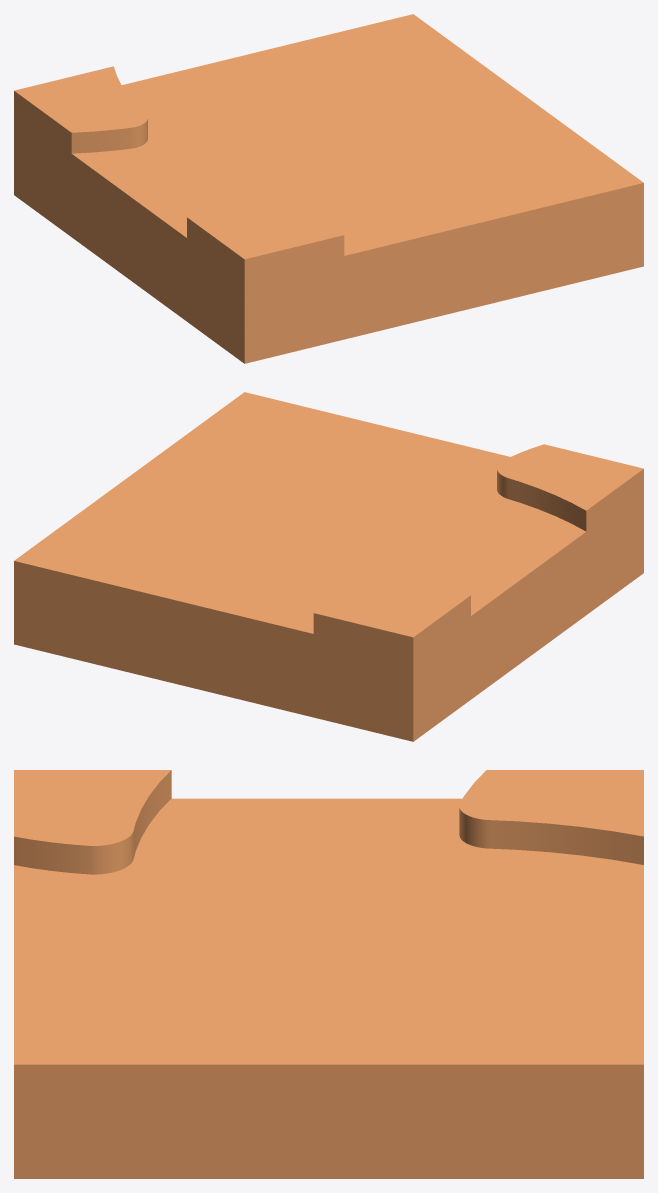
File: ground_dirtRiverEntrance.fbx
3 renders of one model, top to bottom at view 1: azimuth 30°, elevation 25°; view 2: azimuth 150°, elevation 25°; view 3: azimuth 270°, elevation 25°, orthographic. The views are drawn at different scales.
Visible parts, largest first — view 1: ground_dirtRiverEntrance; view 2: ground_dirtRiverEntrance; view 3: ground_dirtRiverEntrance.
Part boxes in pixels (x1,y1,x2,y2): ground_dirtRiverEntrance: (14,14,643,363); ground_dirtRiverEntrance: (14,392,643,741); ground_dirtRiverEntrance: (14,770,643,1178).
Size of the model in its own units: 10 by 2.5 by 10.
